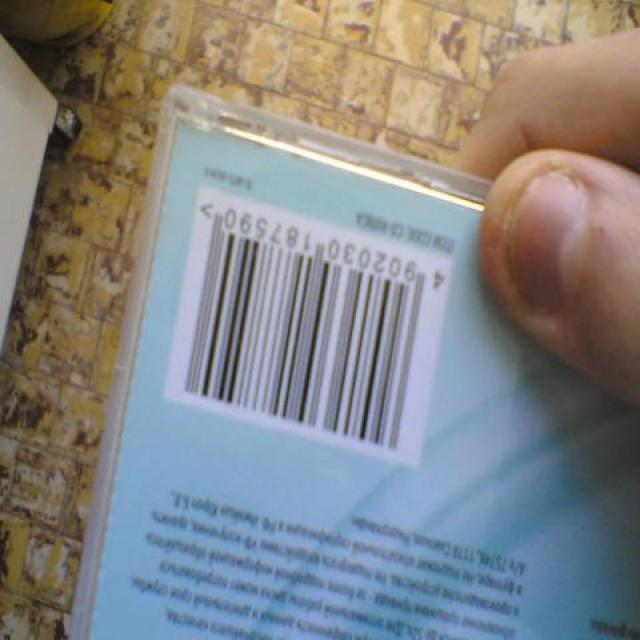Barcode: (162, 183, 454, 472)
